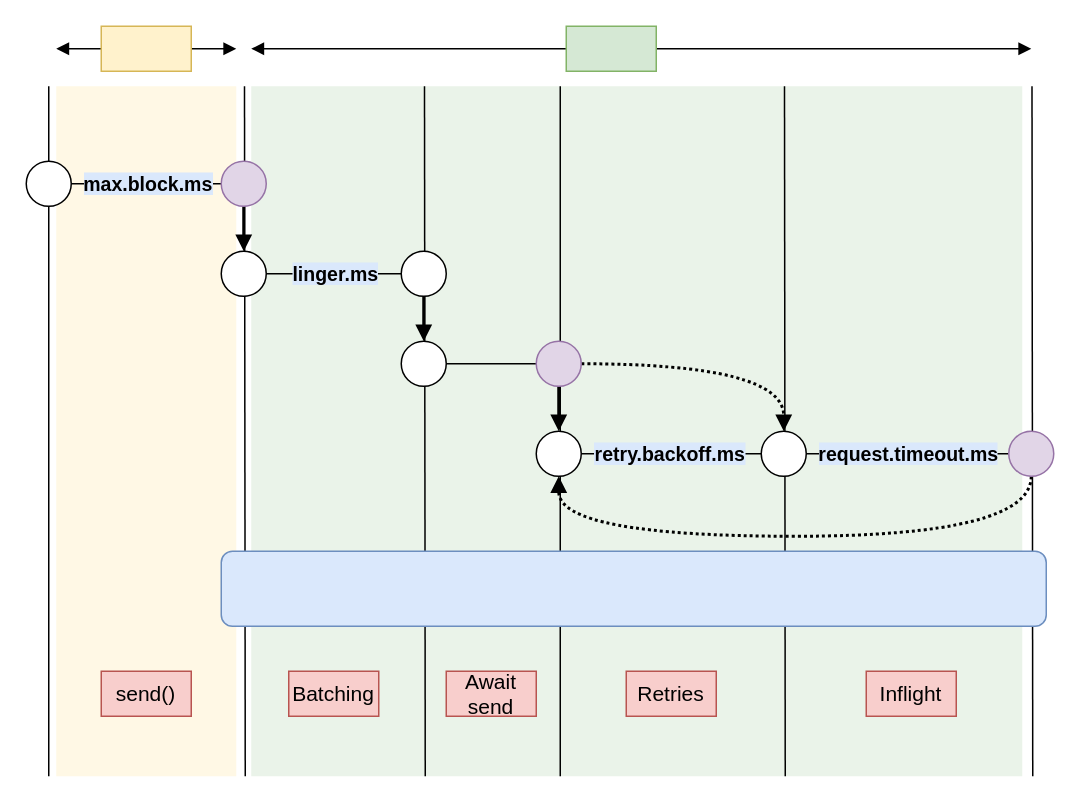
Image size: 1080x804. Some labels were removed from this diagram. Each missing label, with the centre of its shape:
"1구간" belongs at pixel 145 48.
"2구간" belongs at pixel 610 48.
"새 타임아웃 delivery.timeout.ms >= linger.ms + retry.backoff.ms + request.timeout.ms" belongs at pixel 633 588.
